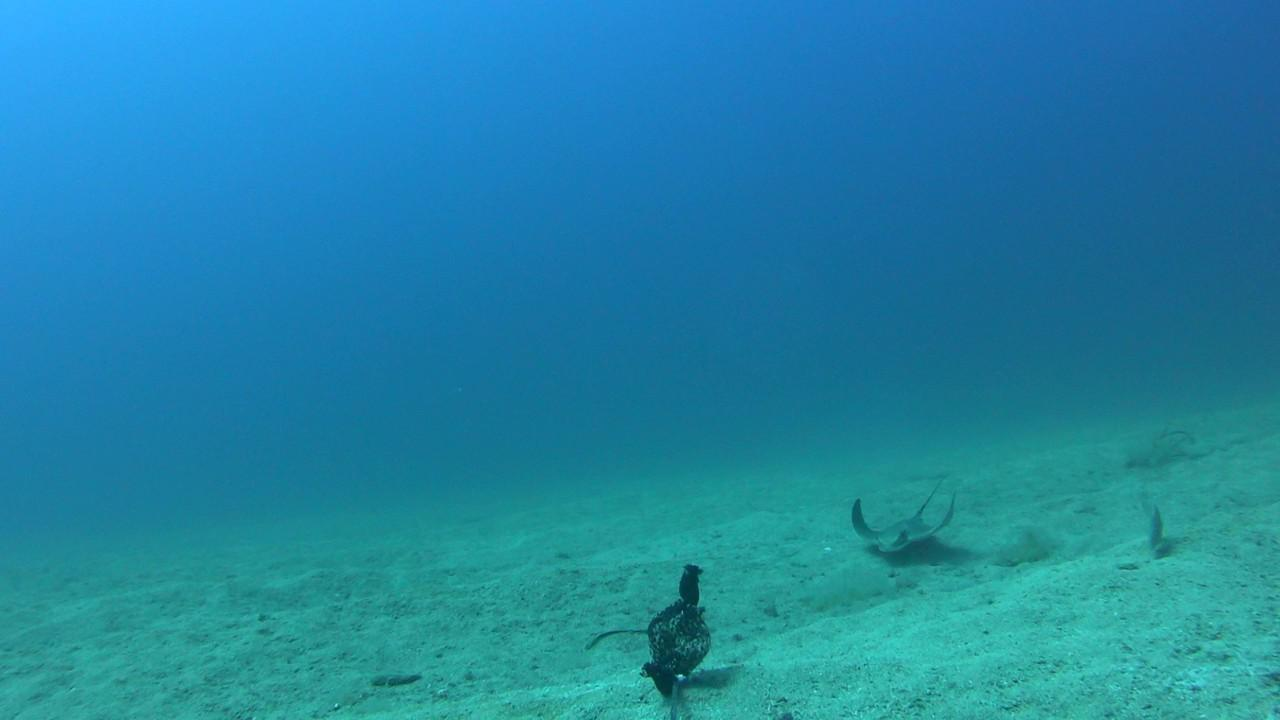myliobatis: (842, 470, 959, 558)
